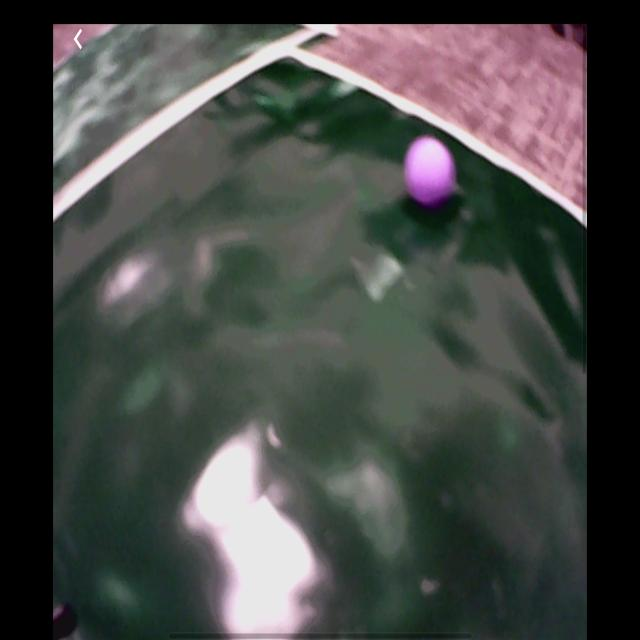ball: (405, 134, 453, 208)
